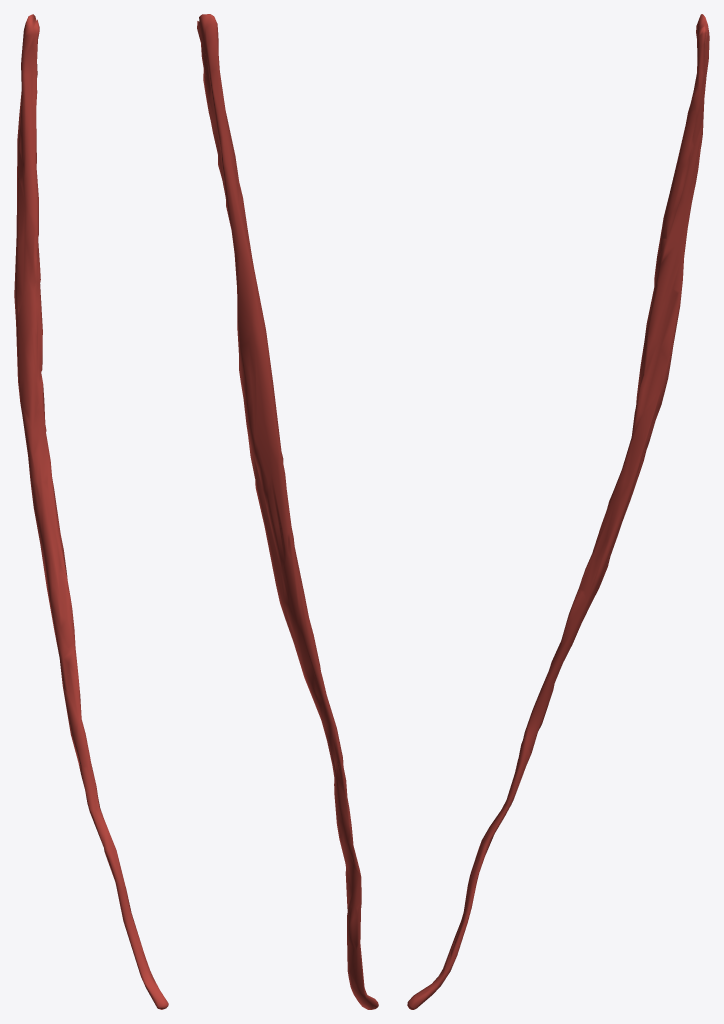
File: musculos-extensor-digiti-minimi-r.glb
The picture shows the model from 3 angles, left to right: view 1: azimuth 30°, elevation 25°; view 2: azimuth 150°, elevation 25°; view 3: azimuth 270°, elevation 25°; orthographic projection. The views are drawn at different scales.
Visible parts, largest first — view 1: Extensor digiti minimi.r; view 2: Extensor digiti minimi.r; view 3: Extensor digiti minimi.r.
Part boxes in pixels (left/top/right/bottom): Extensor digiti minimi.r: left=14, top=14, right=168, bottom=1009; Extensor digiti minimi.r: left=197, top=14, right=378, bottom=1009; Extensor digiti minimi.r: left=407, top=14, right=709, bottom=1009.
Size of the model in its own units: 0.0168 by 0.3359 by 0.0926.
